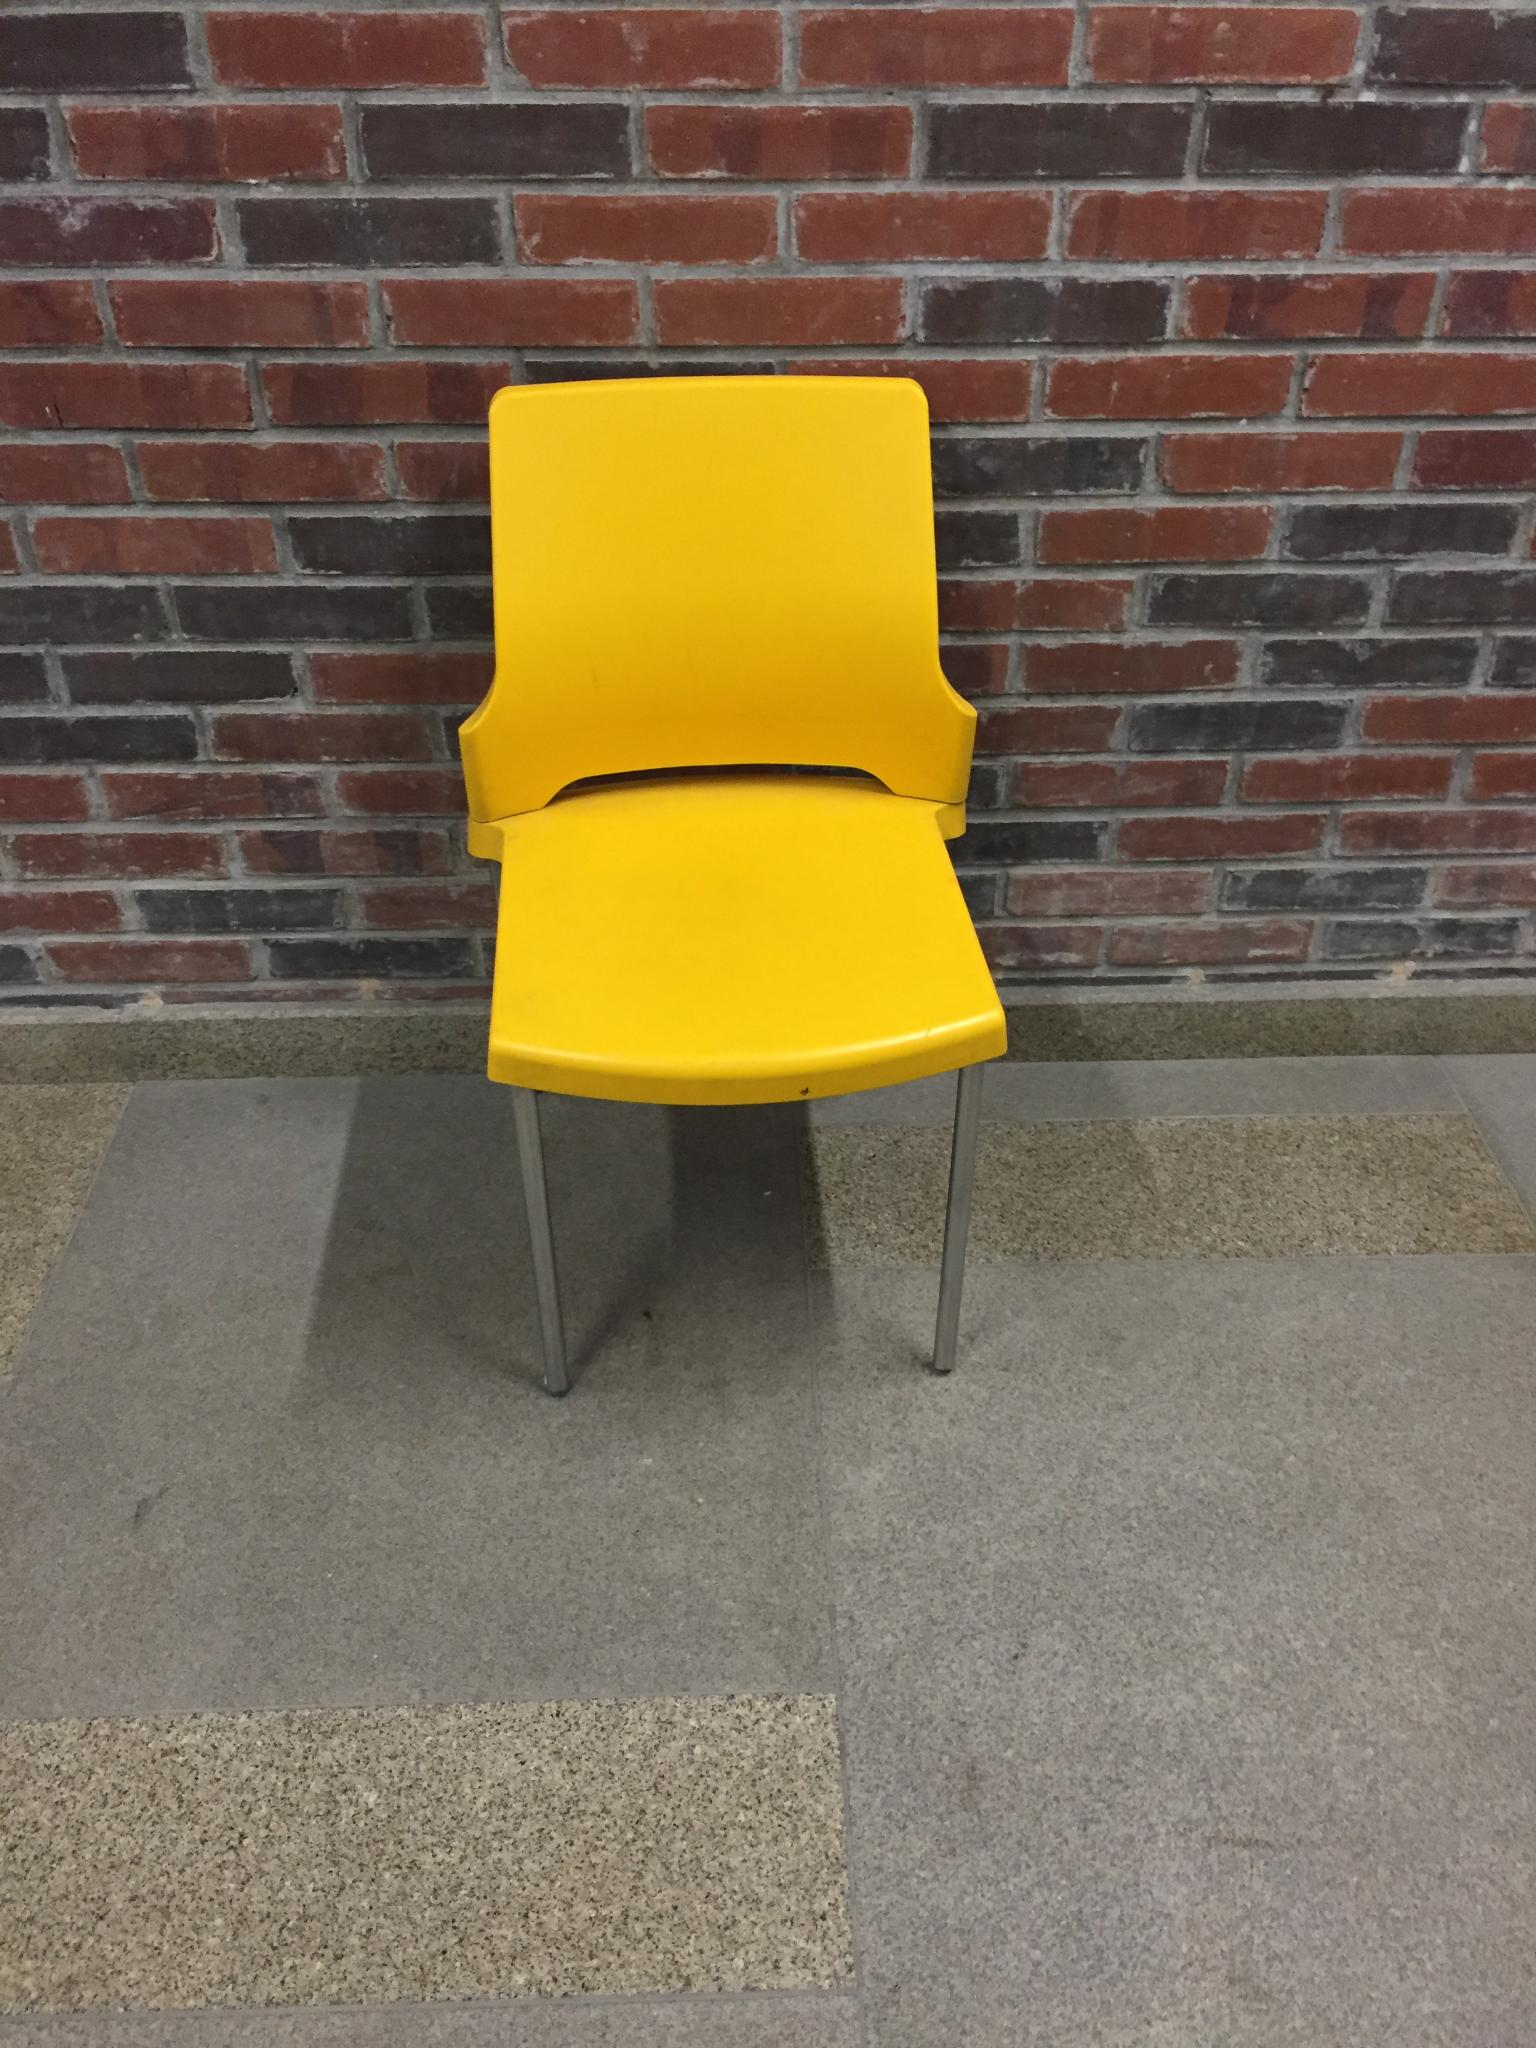chair: (457, 373, 1008, 1393)
